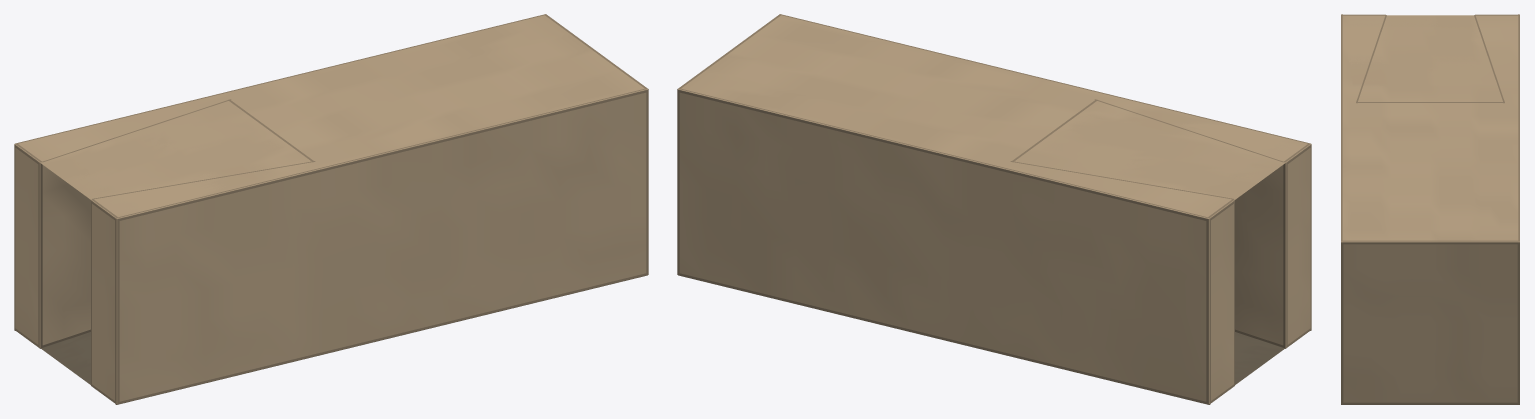
3 renders of one model, left to right at view 1: azimuth 30°, elevation 25°; view 2: azimuth 150°, elevation 25°; view 3: azimuth 270°, elevation 25°, orthographic. The views are drawn at different scales.
Parts seen in each view (by area): view 1: part-b; view 2: part-b; view 3: part-b.
Boxes of the visible parts, x1,y1,x2,y2 form: part-b: (14,14,648,404); part-b: (677,14,1311,404); part-b: (1341,14,1519,404).
Bounding box in the file's own units: 0.3614 × 0.1208 × 0.1208.
